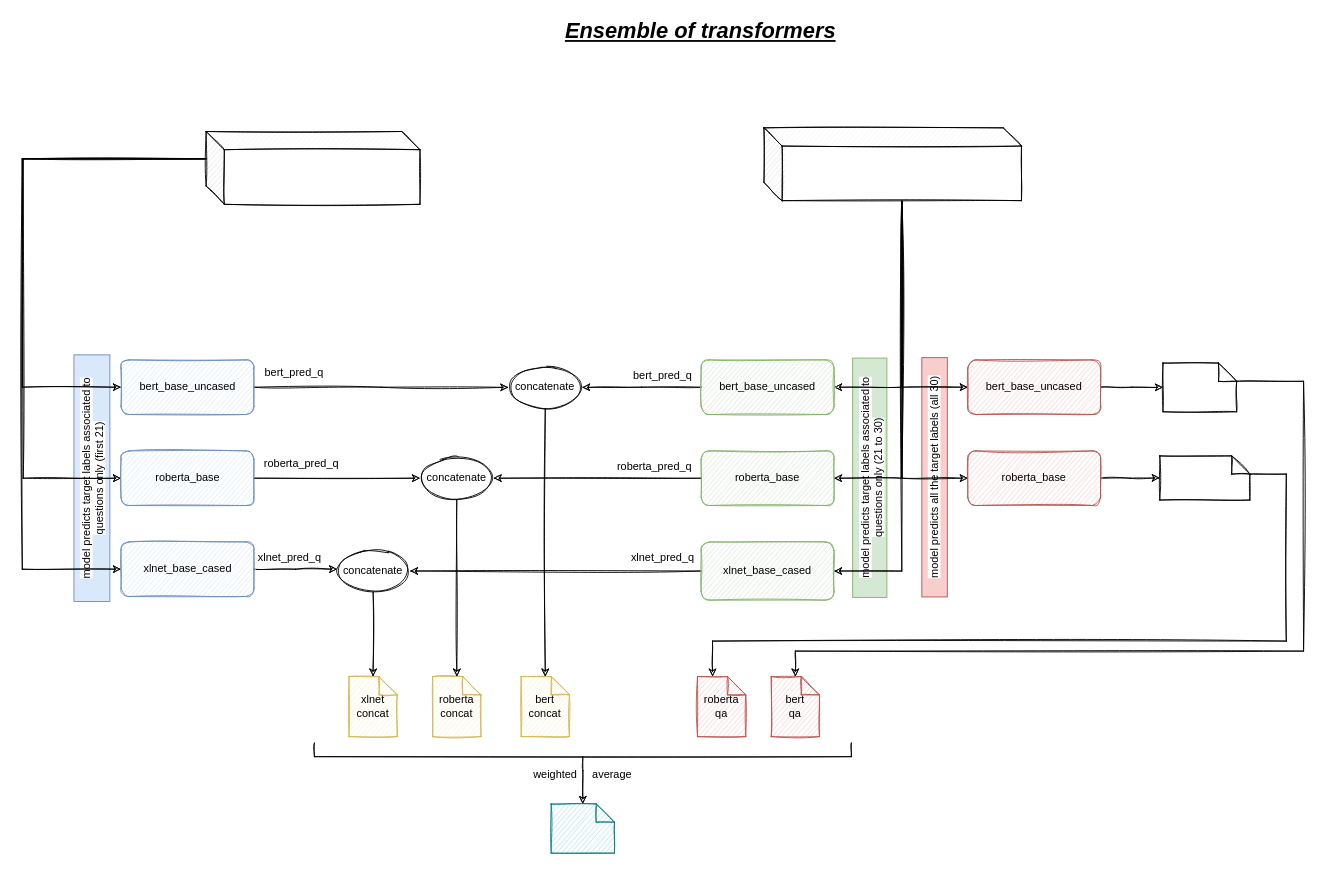
Some shapes in this 1327 by 869 pixel diagram are drawn without their labels. The box of each missing label's shape, as (x1, y1, x2, y2) in pixels:
bert_qa: (1162, 362, 1237, 412)
Data (Questions_title + Questoin_body + Answer): (763, 127, 1021, 201)
Data (Questions_title + Questoin_body): (205, 131, 420, 204)
final output: (550, 803, 614, 853)
roberta_qa: (1159, 455, 1250, 500)
